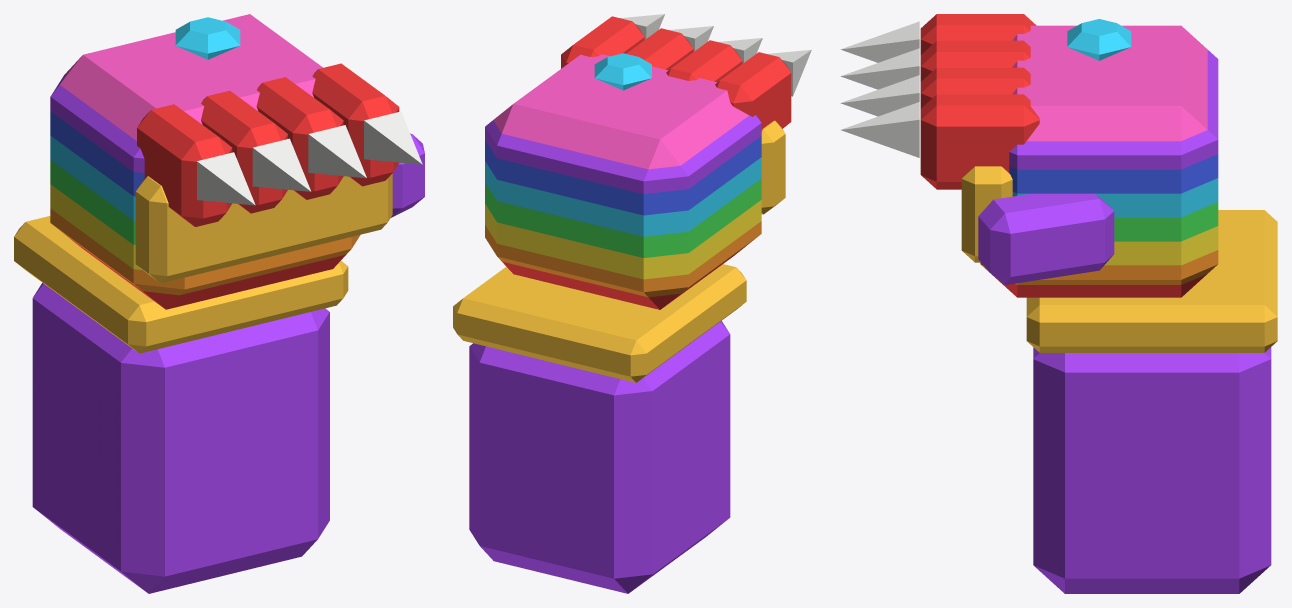
The model's file is RainbowGauntlet.fbx.
The picture shows the model from 3 angles, left to right: view 1: azimuth 30°, elevation 25°; view 2: azimuth 150°, elevation 25°; view 3: azimuth 270°, elevation 25°; orthographic projection. The views are drawn at different scales.
Parts seen in each view (by area): view 1: RainbowGauntlet; view 2: RainbowGauntlet; view 3: RainbowGauntlet.
Boxes of the visible parts, box(x1,y1,x2,y2) form: RainbowGauntlet: box(14, 14, 424, 593); RainbowGauntlet: box(453, 14, 811, 593); RainbowGauntlet: box(840, 14, 1277, 593).
Bounding box in the file's own units: 1.26 × 2.21 × 1.65.
1 material, 1 textured.
